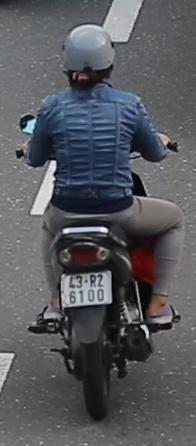LP: (60, 268, 114, 310)
helmet: (60, 22, 116, 92)
